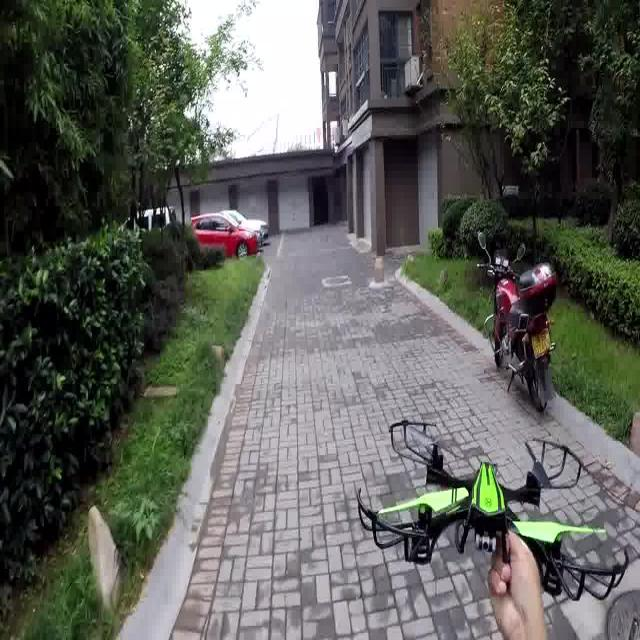drones: (351, 413, 633, 608)
